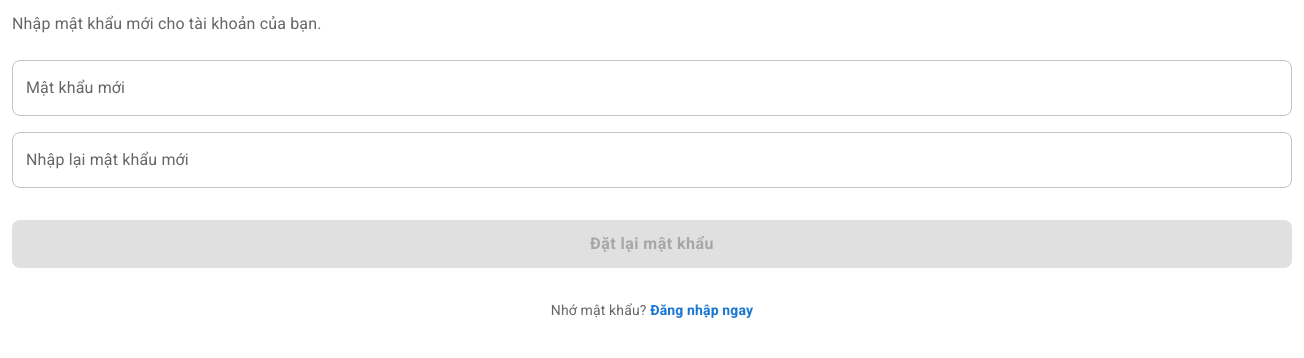
it: ResetPasswordForm Component › Validation › should validate password confirmation
Type "TestPass123!" into the password field with test id "new-password-input" at point(652, 88), box [12,60,1292,116]
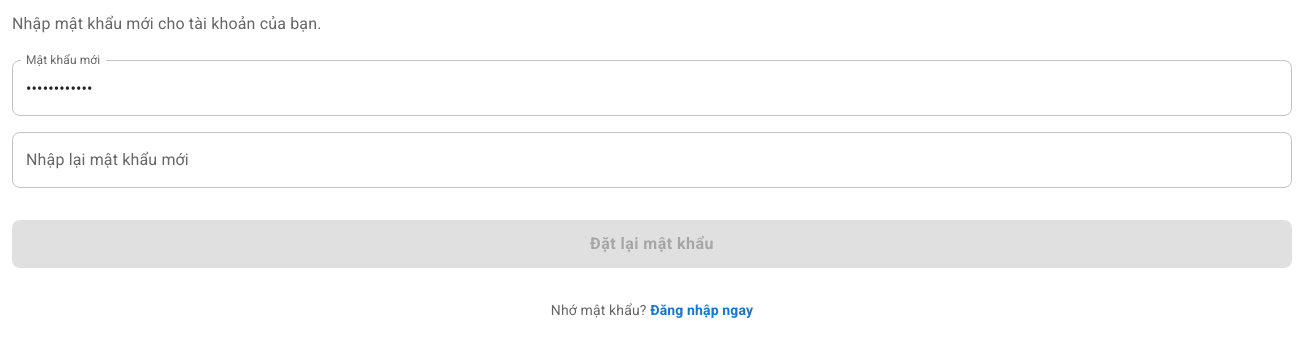
Type "DifferentPass123!" into the password field with test id "confirm-password-input" at point(652, 160), box [12,132,1292,188]
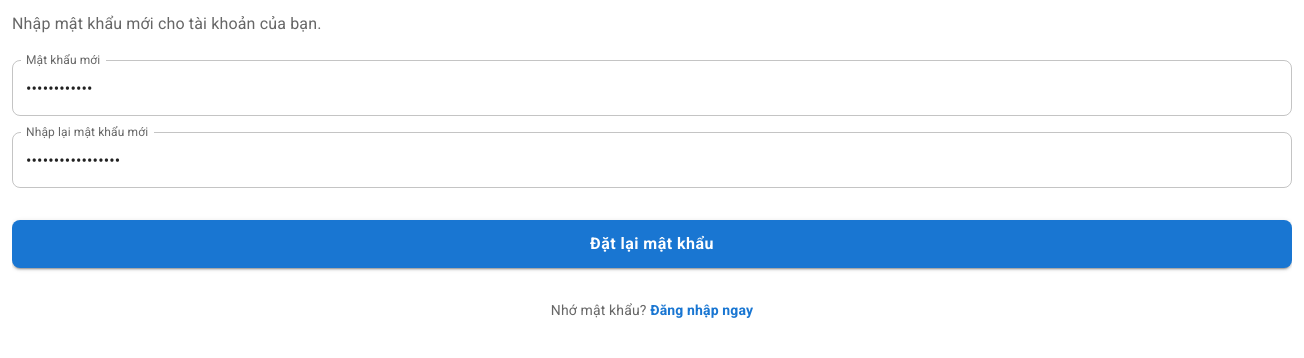
Leave the password field with test id "confirm-password-input", box [12,132,1292,188]
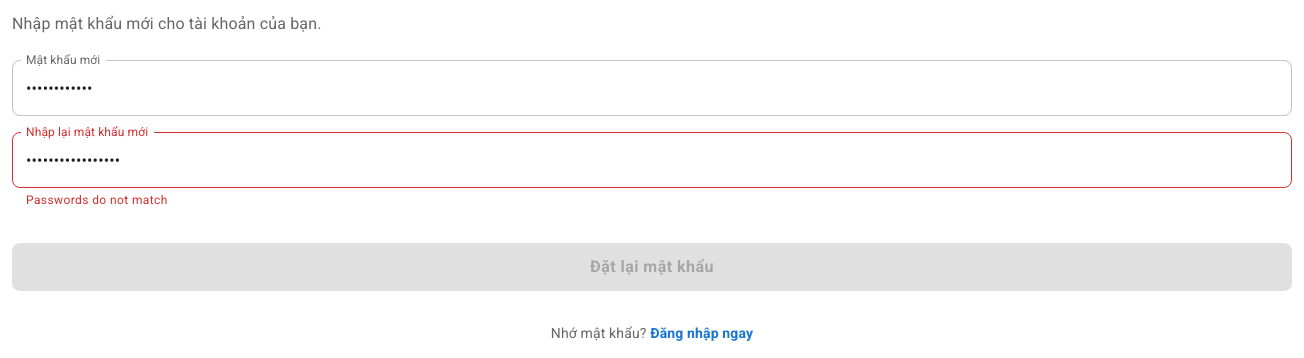
Result: the text "Passwords do not match" is shown at [26,193,168,207]
